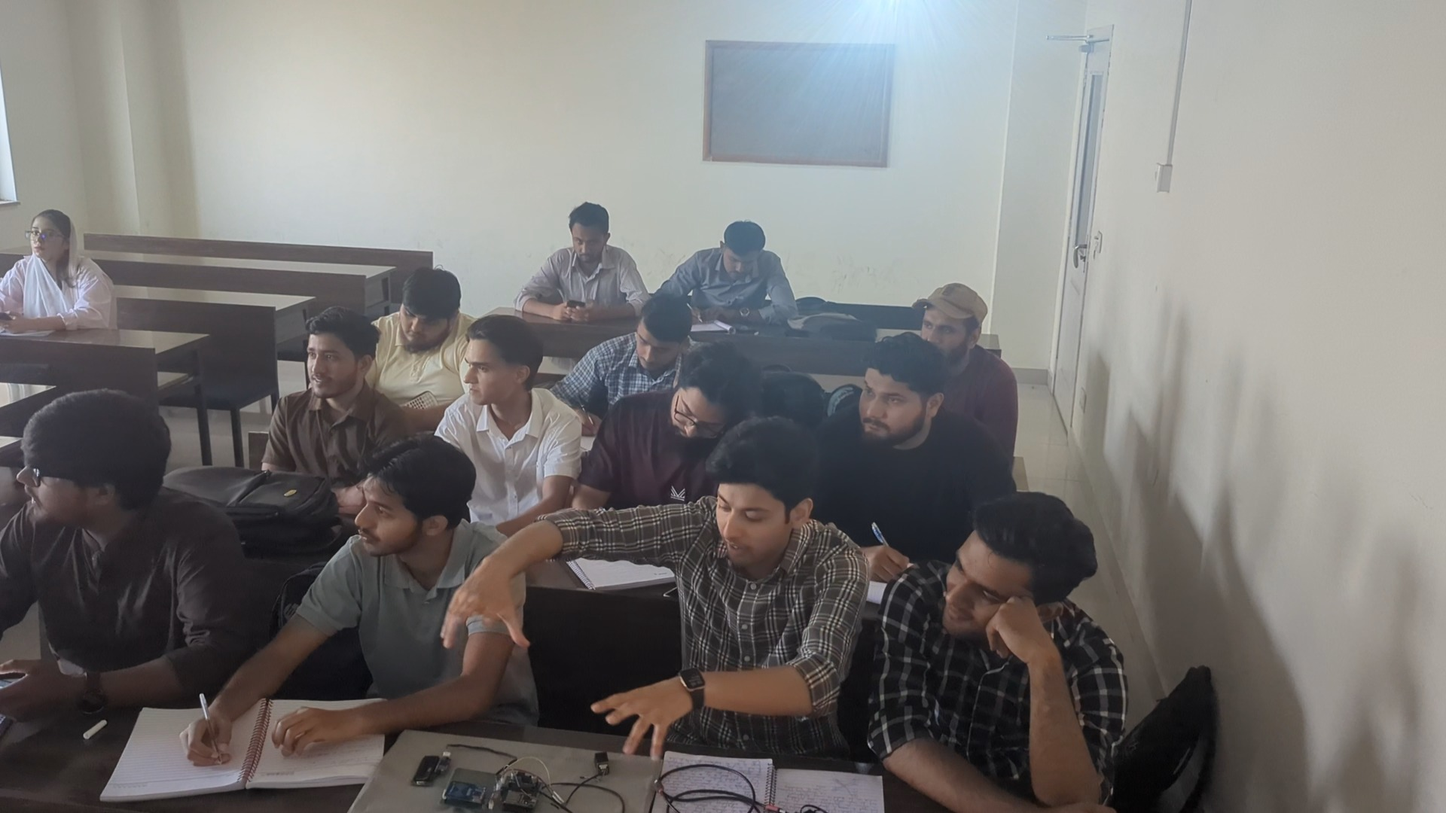look_forward: (871, 488, 1137, 813), (1, 381, 243, 730), (279, 432, 505, 736), (667, 404, 847, 742), (826, 330, 976, 577), (442, 313, 589, 498), (267, 305, 398, 481), (4, 203, 124, 334), (372, 259, 469, 395), (909, 272, 993, 361)
using_device: (511, 185, 632, 328)
write: (572, 351, 728, 588), (566, 277, 696, 403), (678, 212, 806, 339)
